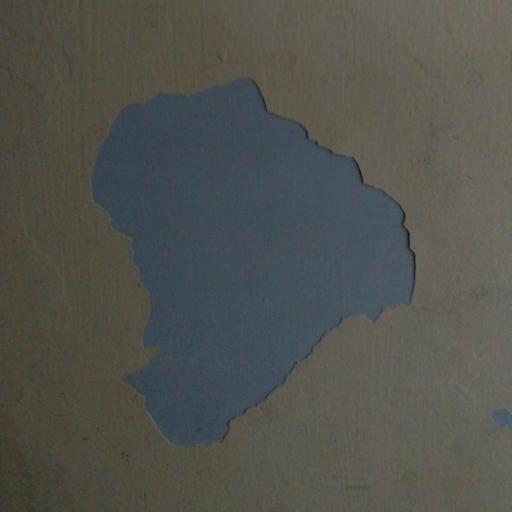peeling: (84, 63, 421, 454), (484, 394, 512, 435)
